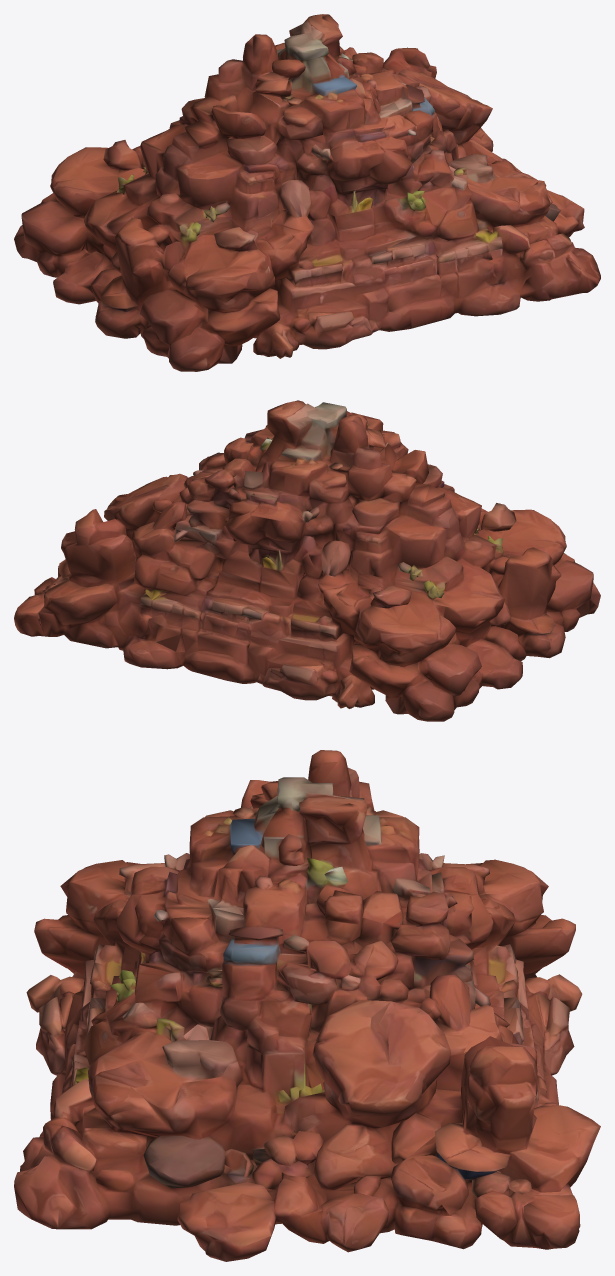
Rendered from env_west_rock_2.fbx.
3 renders of one model, top to bottom at view 1: azimuth 30°, elevation 25°; view 2: azimuth 150°, elevation 25°; view 3: azimuth 270°, elevation 25°, orthographic. The views are drawn at different scales.
Parts seen in each view (by area): view 1: env_west_rock_2_LOD0; view 2: env_west_rock_2_LOD0; view 3: env_west_rock_2_LOD0.
Part boxes in pixels (box(x1,y1,x2,y2)): env_west_rock_2_LOD0: box(14, 14, 600, 371); env_west_rock_2_LOD0: box(14, 400, 600, 721); env_west_rock_2_LOD0: box(14, 750, 600, 1261).
Size of what is drawn, in the model's own units: 0.98 by 0.4565 by 0.7484.
